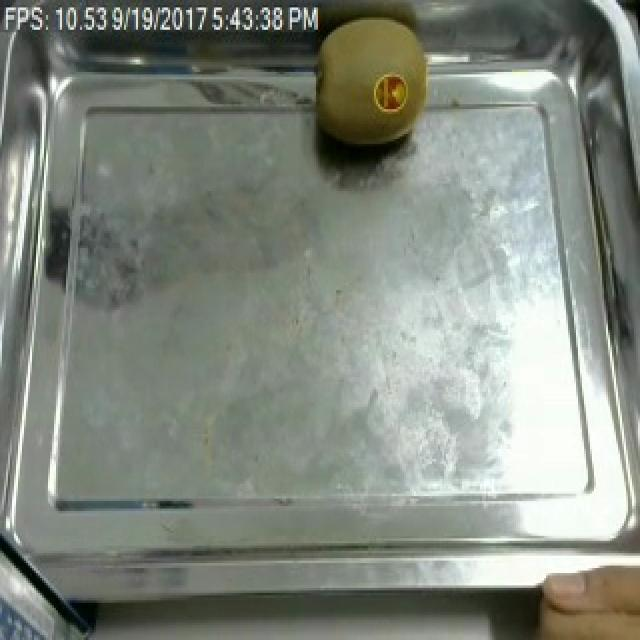Fruit: (314, 5, 436, 161), (522, 543, 640, 640)
